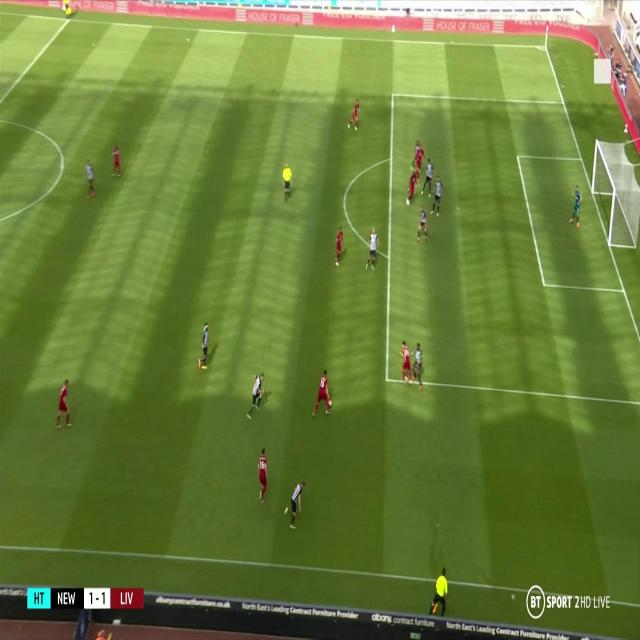ball: (328, 398, 332, 408)
player: (428, 568, 453, 618), (310, 367, 333, 421), (283, 480, 306, 530), (246, 370, 267, 423), (56, 376, 73, 434), (566, 183, 584, 229), (197, 321, 213, 372), (397, 338, 413, 389), (255, 445, 268, 505), (412, 340, 426, 389), (430, 177, 446, 219), (365, 227, 380, 271), (414, 204, 429, 248), (420, 160, 436, 199), (413, 143, 426, 187), (403, 168, 418, 206), (84, 158, 98, 197), (281, 161, 294, 202), (347, 97, 363, 129), (110, 140, 123, 179), (334, 224, 346, 265)
